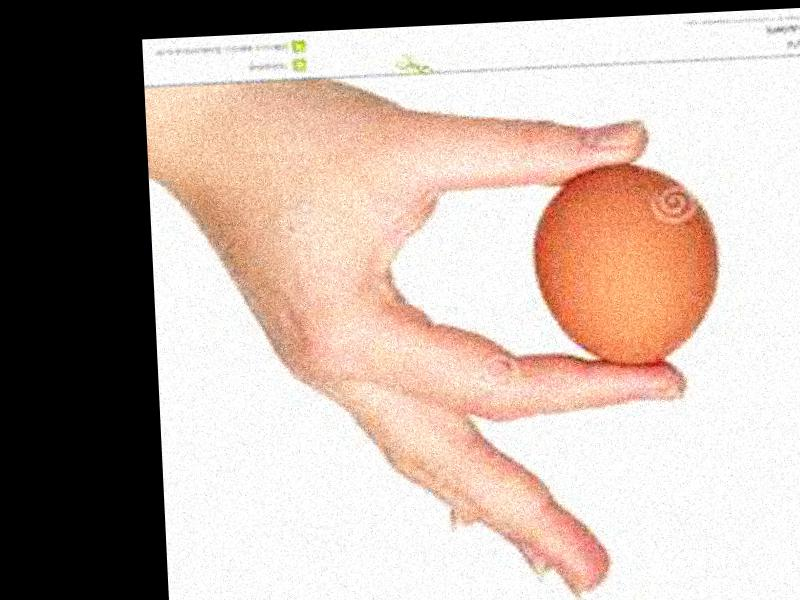Eggs: (526, 158, 725, 370)
